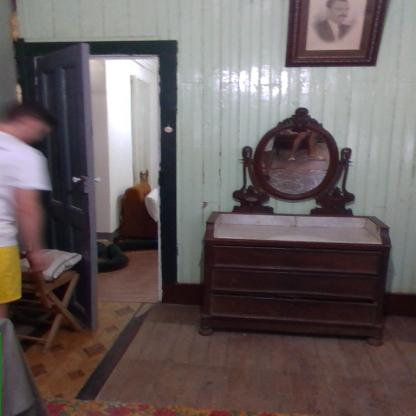semi: (17, 31, 183, 329)
